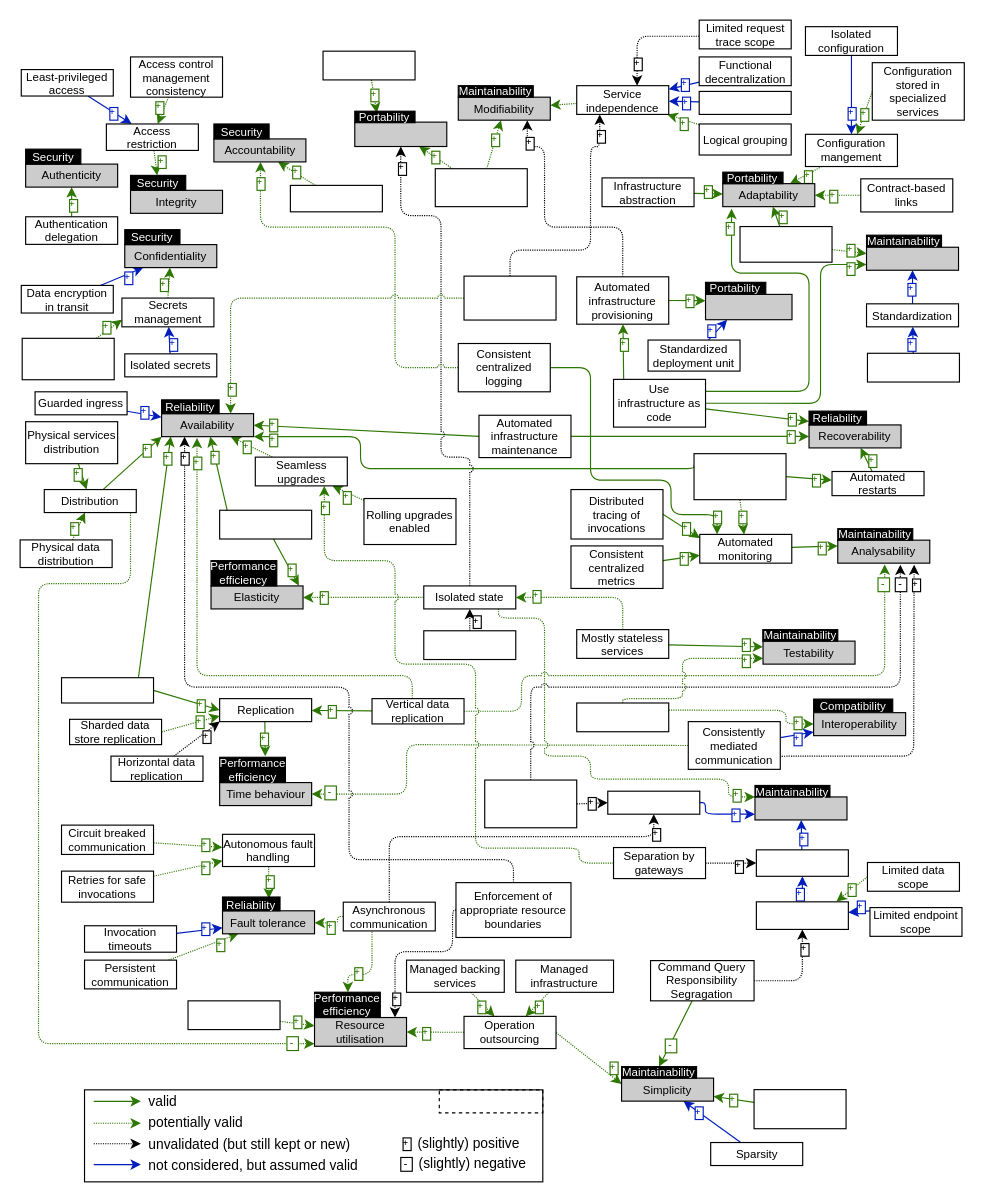
The diagram is 984 pixels wide and 1203 high, and some of its shapes have lost their labels. Each missing label, with the centre of its shape:
Account separation: point (335, 198)
Addressing abstraction: point (480, 187)
API-based communication: point (622, 717)
Backing service decentralization: point (509, 297)
Built-in autoscaling: point (265, 524)
Cloud vendor abstraction: point (785, 243)
Communication partner abstraction: point (530, 803)
Component similarity: point (912, 367)
Dynamic scheduling: point (233, 1015)
Health and readiness checks: point (739, 476)
Immutable artifacts: point (368, 65)
Installability: point (748, 306)
Limited functional scope: point (801, 915)
Loose coupling: point (653, 802)
Low coupling: point (744, 102)
Modularity: point (800, 808)
Replaceabiltiy: point (400, 134)
Reusability: point (912, 258)
Secrets stored in specialized services: point (67, 358)
Service replication: point (107, 690)
Service-orientation: point (801, 862)
Spezialized stateful services: point (469, 645)
Survey results: point (490, 1101)
Usage of existing solutions: point (799, 1108)
